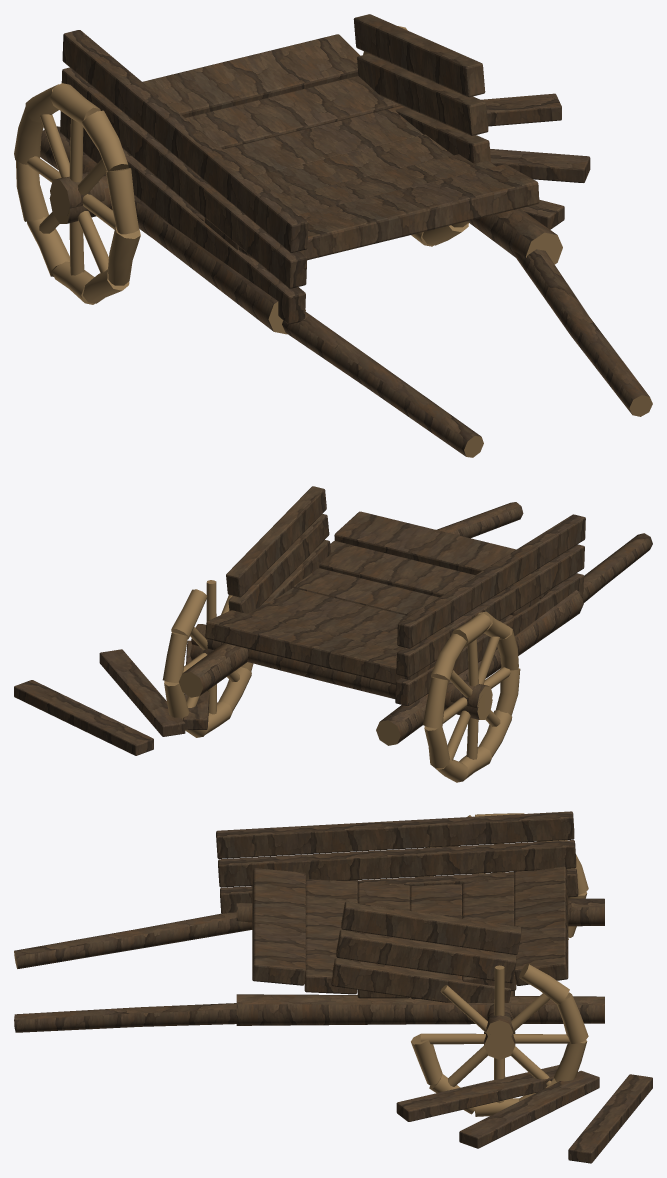
3 renders of one model, top to bottom at view 1: azimuth 30°, elevation 25°; view 2: azimuth 150°, elevation 25°; view 3: azimuth 270°, elevation 25°, orthographic. The views are drawn at different scales.
Parts seen in each view (by area): view 1: Cart bed board; view 2: Cart bed board; view 3: Cart bed board.
Part boxes in pixels (box(x1,y1,x2,y2)): Cart bed board: box(14, 14, 652, 457); Cart bed board: box(14, 486, 652, 782); Cart bed board: box(14, 811, 652, 1163).
Size of the model in its own units: 4.75 by 2.06 by 6.08.
Materials: 2 (1 with a texture image).
